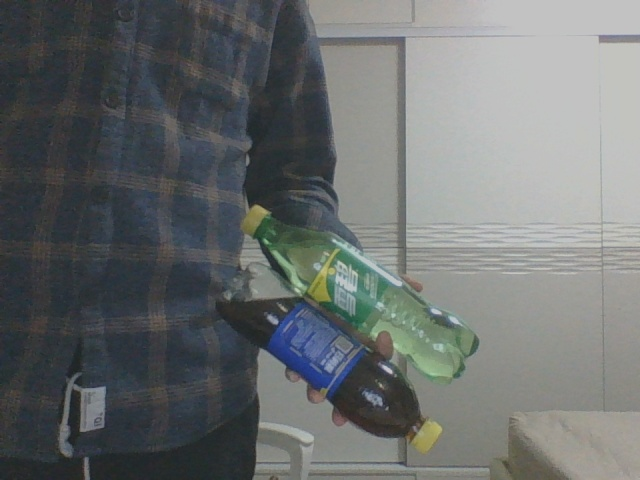Cola: (215, 265, 442, 453)
Sprite: (240, 206, 476, 375)
